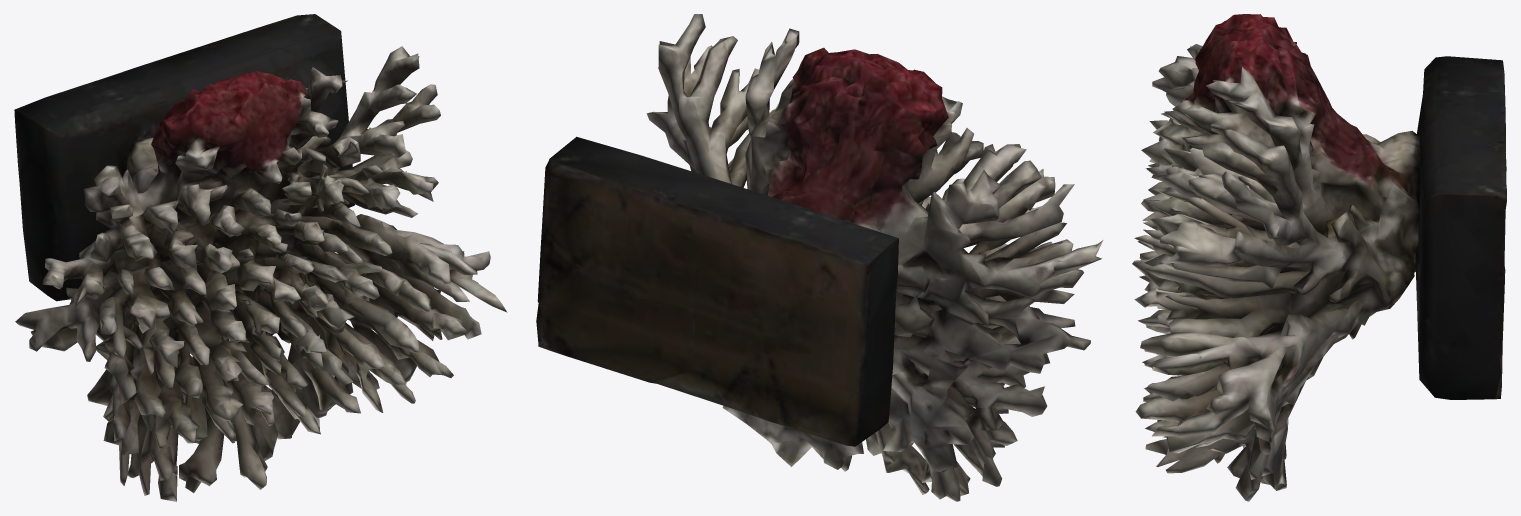
The model's file is secale.glb.
3 views of the same model, side by side, from view 1: azimuth 30°, elevation 25°; view 2: azimuth 150°, elevation 25°; view 3: azimuth 270°, elevation 25° (orthographic). The views are drawn at different scales.
Bounding box in the file's own units: 0.258 × 0.2223 × 0.1684.
1 material, 1 textured.
